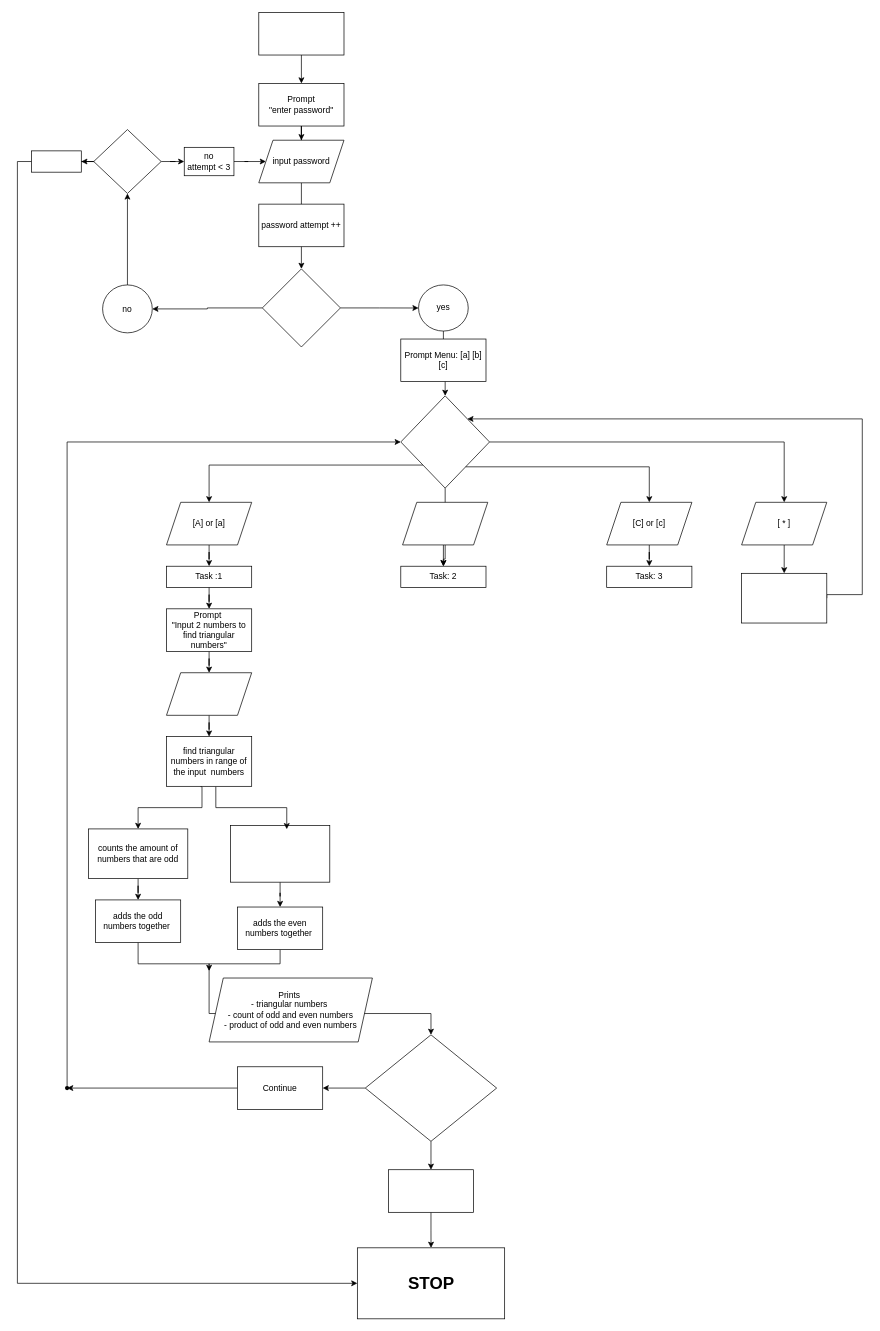
Image size: 880x1331. Some labels were removed from this diagram. Here are the shapes that lost their labels. From the top down, the centre of each, then its label:
[301,33]: START
[56,161]: yes attempt = 3
[127,161]: is attempt = 3?
[301,307]: Is password correct?
[445,441]: Choose [a] [b] [c] [ * ] ?
[445,523]: [B] or [b]
[784,598]: Prompt: warning invalid choice, choose again
[209,693]: input 2 numbers EX:1 & 40
[280,853]: counts the amount of numbers that are even
[431,1087]: continue to another task or exit?
[431,1190]: exit
